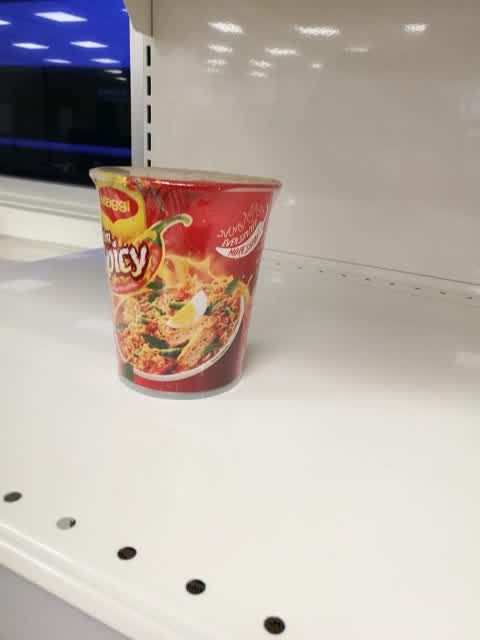maggi: (87, 164, 284, 401)
